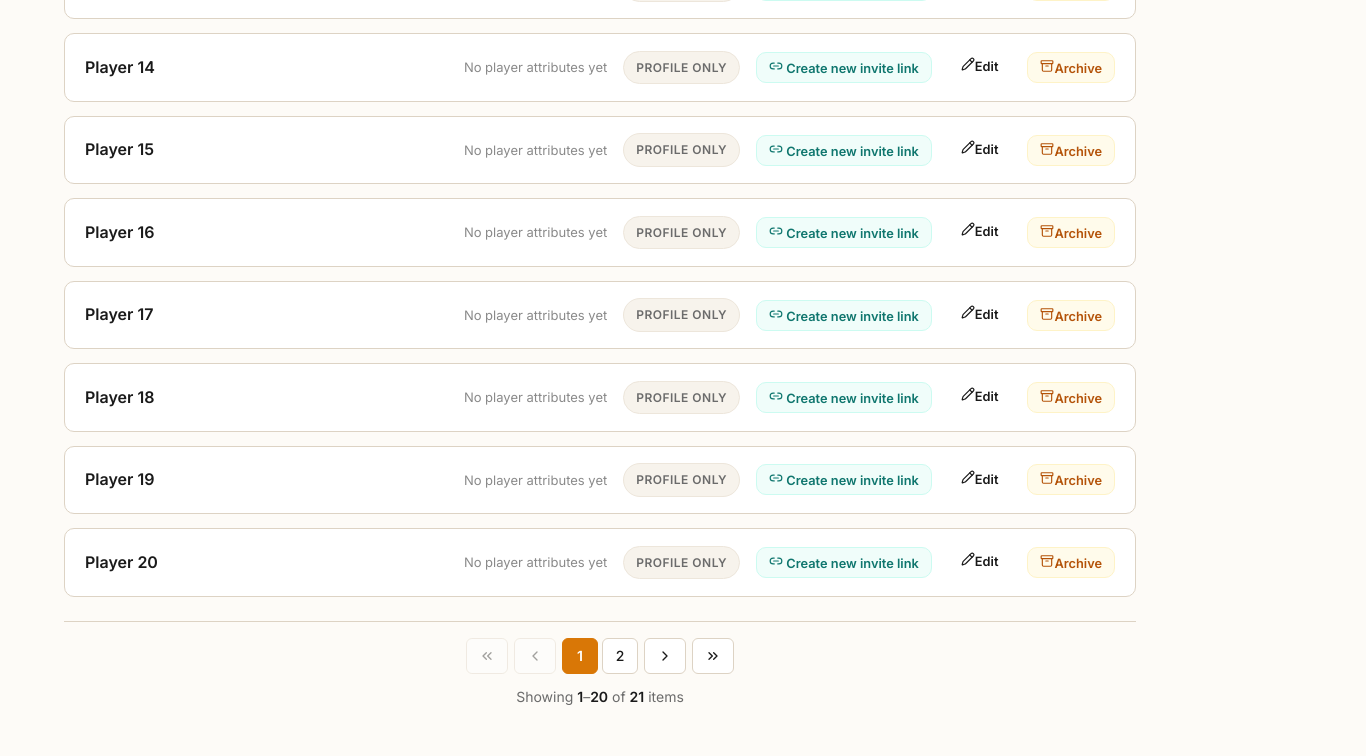
Players › pages through the catalogue 20 at a time
(page scrolled)
Click the button named "Page 2" at (620, 656), box x1=602 y1=638 x2=638 y2=674
(page scrolled)
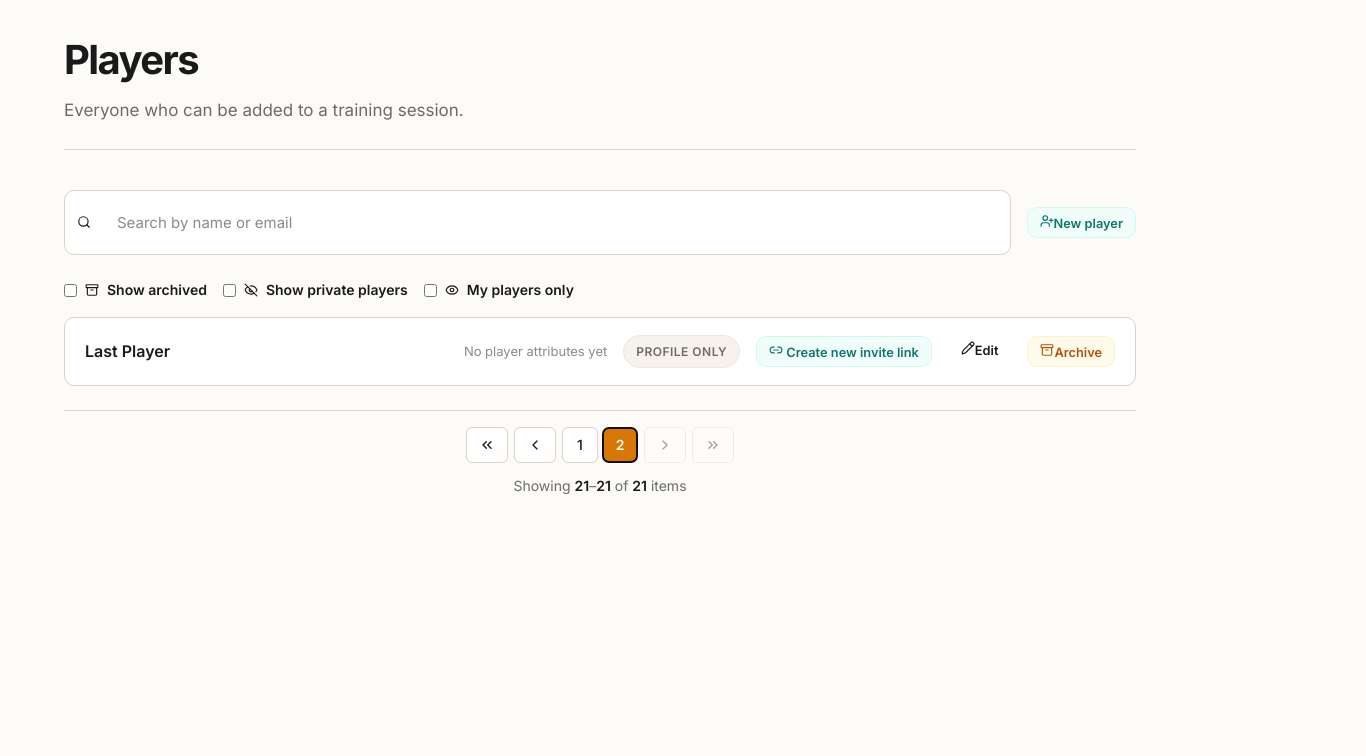
Result: the link "Last Player" is shown at x1=85 y1=341 x2=170 y2=361
